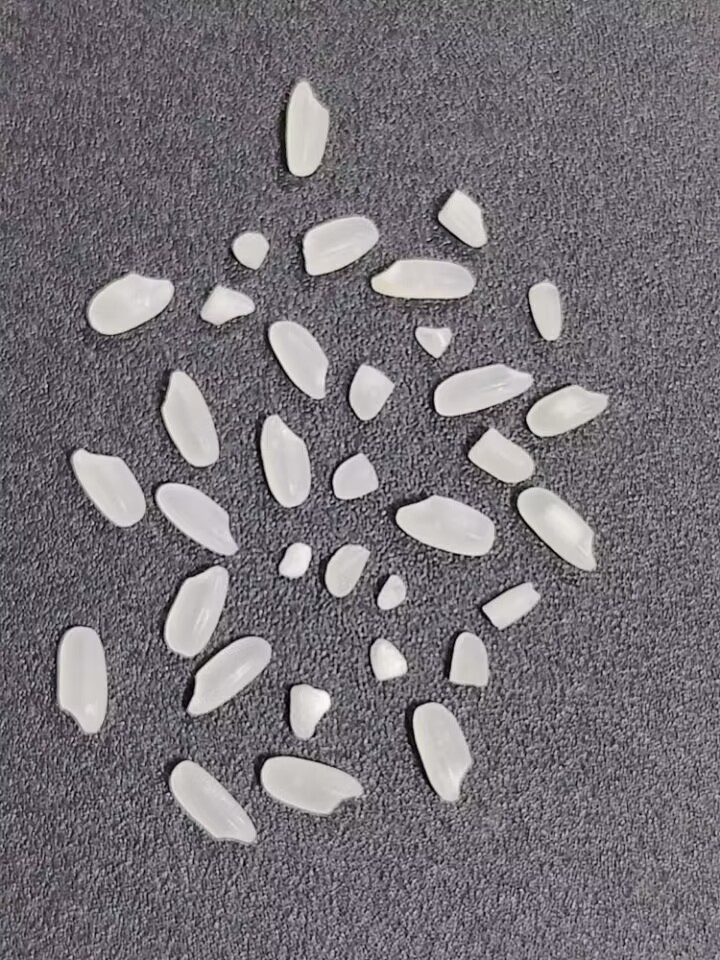broken: (463, 425, 542, 487), (476, 578, 545, 632), (435, 185, 490, 249), (320, 542, 373, 601), (445, 626, 493, 690), (347, 363, 395, 424), (285, 683, 335, 741), (197, 284, 259, 327), (363, 635, 412, 688), (328, 450, 379, 500), (528, 281, 562, 342), (272, 536, 316, 582), (372, 570, 414, 616), (228, 231, 273, 270), (414, 324, 455, 361)
rice: (169, 759, 259, 846), (181, 635, 274, 719), (515, 484, 598, 574), (152, 482, 243, 559), (68, 445, 147, 529), (161, 562, 230, 657), (394, 494, 496, 558), (410, 702, 473, 805), (52, 624, 109, 736), (261, 755, 365, 816), (159, 368, 221, 469), (431, 361, 535, 418), (84, 273, 175, 335), (267, 317, 329, 401), (258, 412, 311, 508), (301, 215, 380, 276), (284, 78, 331, 178), (524, 385, 611, 438), (369, 256, 475, 299)
